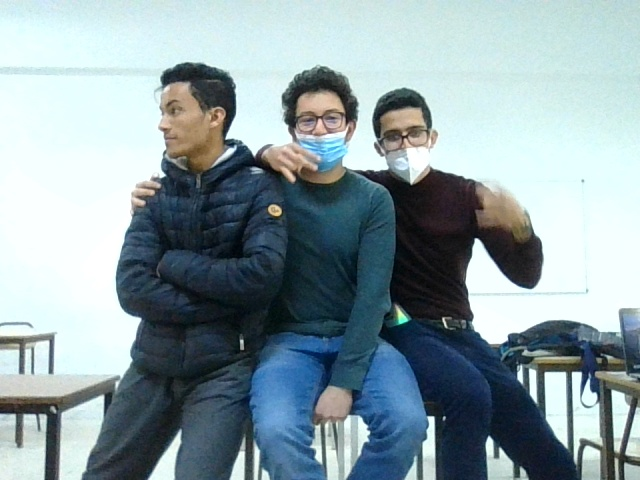mask_weared_incorrect: (382, 120, 437, 187), (293, 106, 352, 167)
without_mask: (156, 90, 193, 156)
